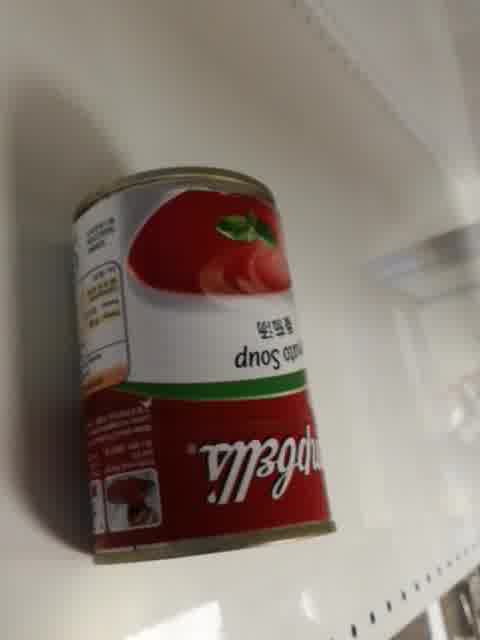tomatosoup: (63, 163, 337, 570)
